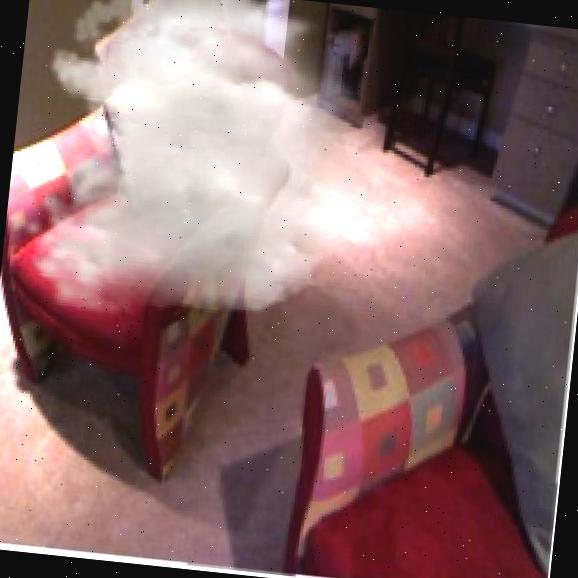smoke: (13, 0, 418, 344)
